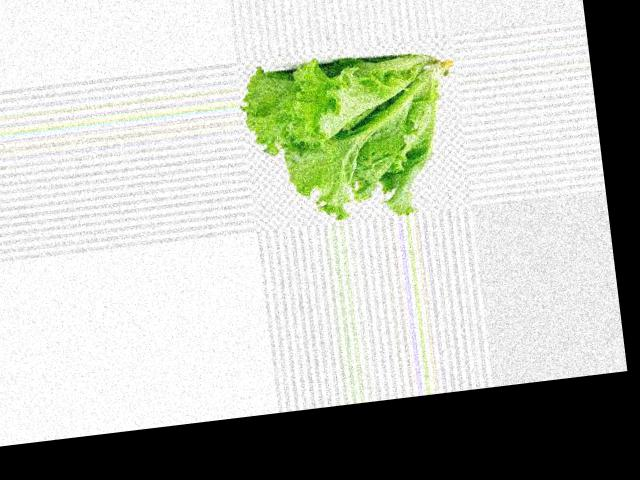lettuce: (260, 33, 417, 212)
